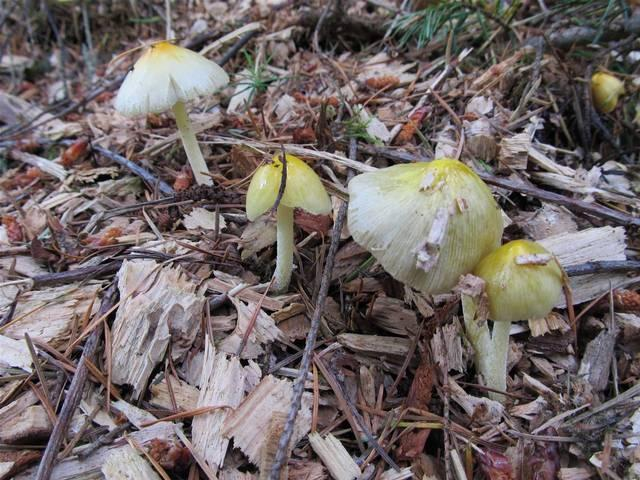Edible Mushroom: (345, 156, 505, 295), (112, 39, 230, 187), (471, 238, 565, 402), (244, 151, 332, 293)
